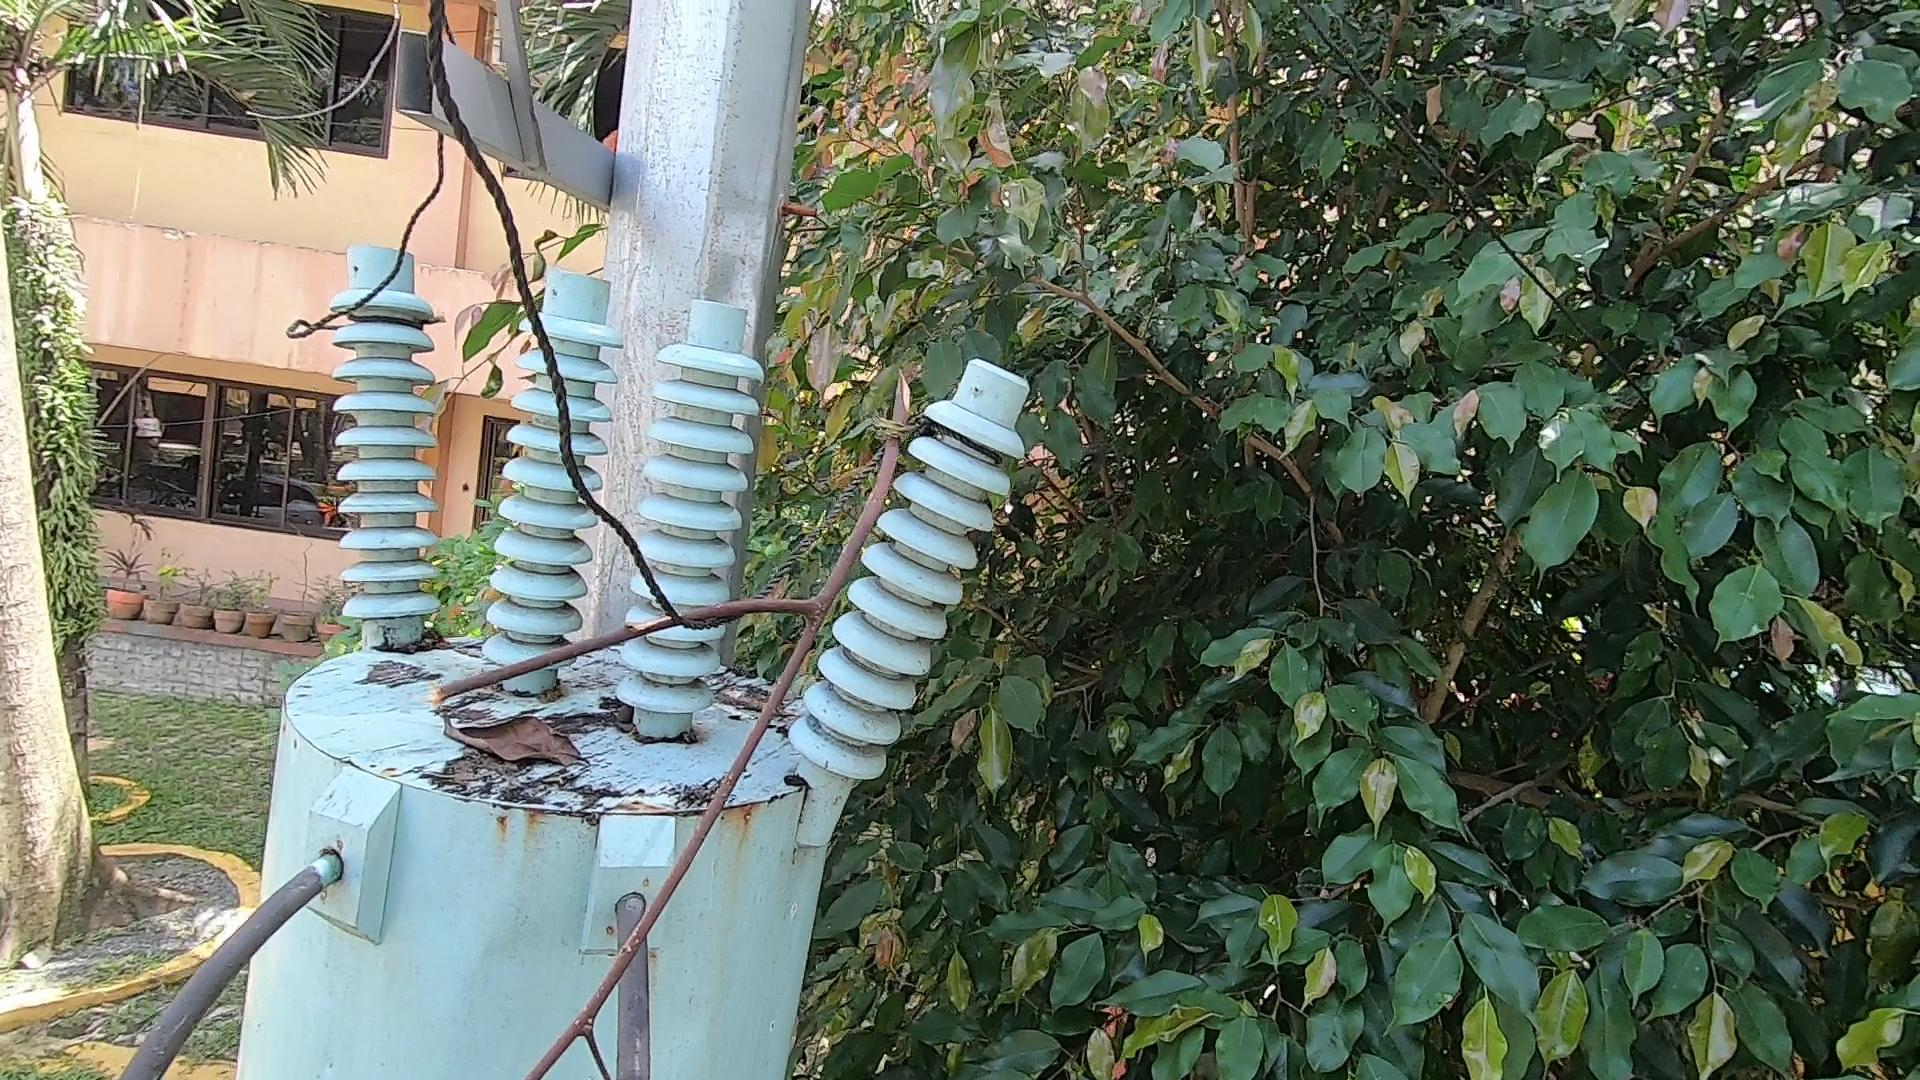leaf: (433, 698, 599, 789)
tree branch: (400, 338, 977, 1080)
